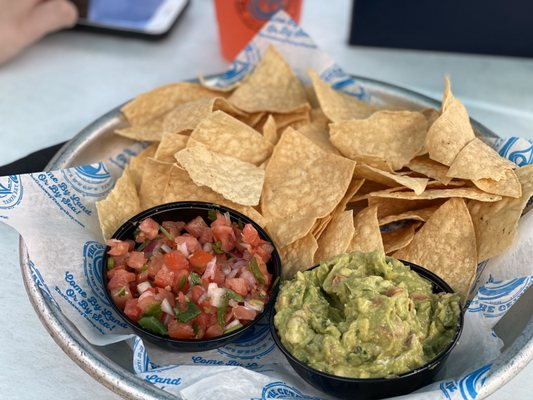soup: (255, 122, 359, 275)
sushi: (83, 201, 281, 352), (269, 253, 468, 400)
